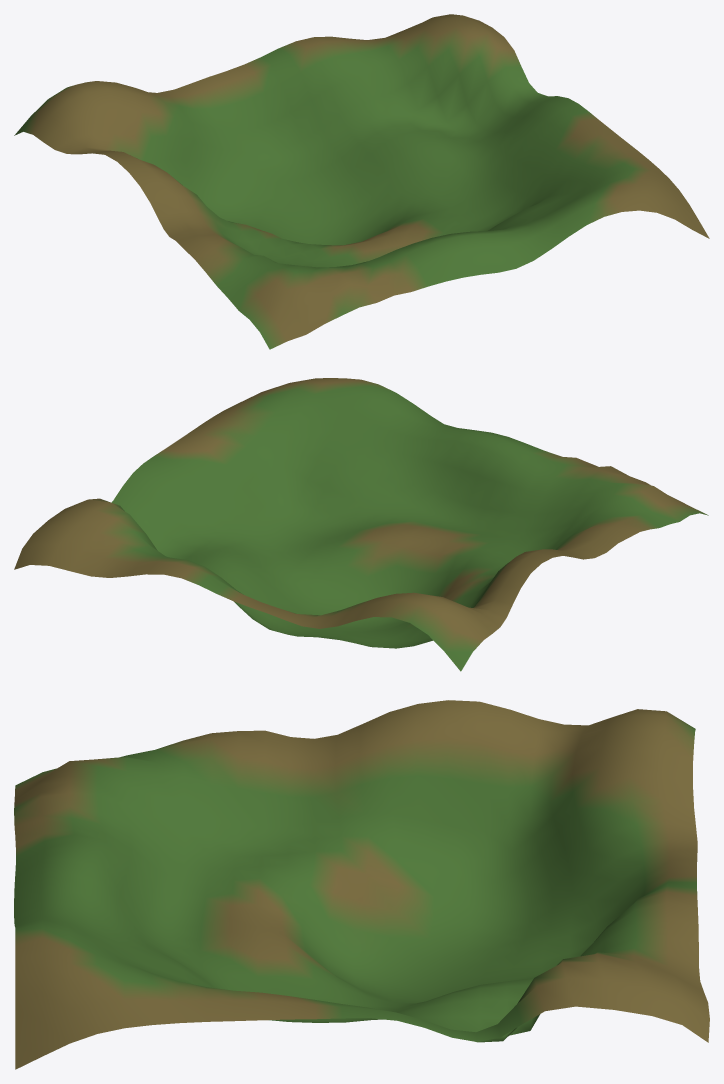
File: map3d.glb
The picture shows the model from 3 angles, top to bottom: view 1: azimuth 30°, elevation 25°; view 2: azimuth 150°, elevation 25°; view 3: azimuth 270°, elevation 25°; orthographic projection. The views are drawn at different scales.
Parts seen in each view (by area): view 1: Plane; view 2: Plane; view 3: Plane.
Part boxes in pixels (<box>): Plane: <box>14,14,709,349</box>; Plane: <box>14,378,708,671</box>; Plane: <box>14,700,709,1069</box>.
Size of the model in its own units: 102 by 27.74 by 102.
